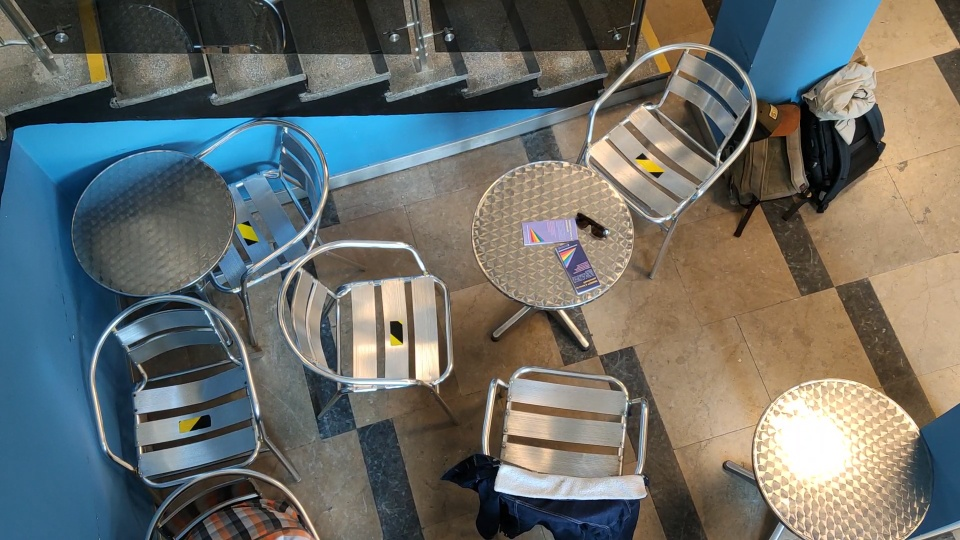chair: (584, 37, 758, 279), (85, 295, 306, 477), (280, 239, 468, 424), (191, 120, 362, 285), (477, 367, 661, 515)
table: (713, 371, 943, 540), (462, 159, 641, 355), (67, 147, 238, 298)
